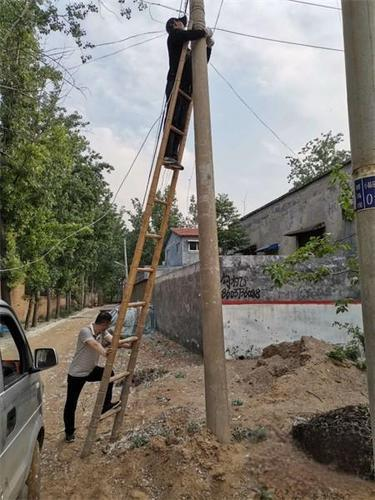安全帽、安全绳，工作服均未佩戴的工作人员: (160, 13, 215, 171)
安全帽、工作服均未穿戴的工作人员: (62, 310, 145, 442)
